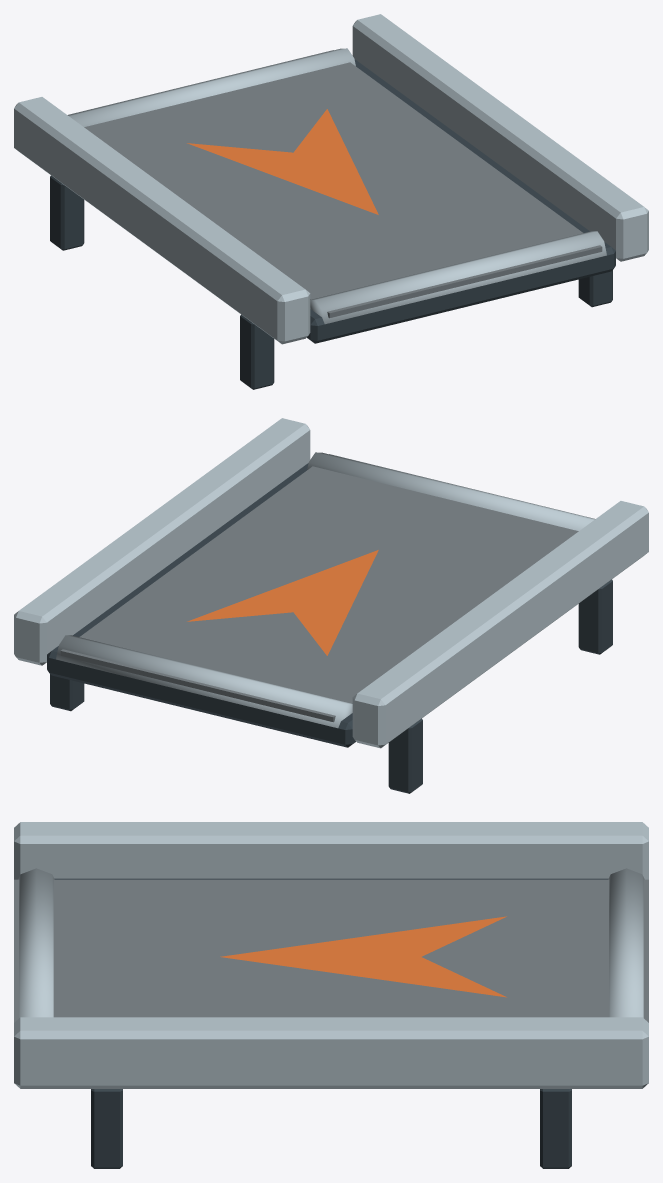
Rendered from conveyor.glb.
3 renders of one model, top to bottom at view 1: azimuth 30°, elevation 25°; view 2: azimuth 150°, elevation 25°; view 3: azimuth 270°, elevation 25°, orthographic. The views are drawn at different scales.
Parts seen in each view (by area): view 1: conveyor_floor, conveyor_metal, conveyor_dark, conveyor_orange; view 2: conveyor_floor, conveyor_metal, conveyor_dark, conveyor_orange; view 3: conveyor_metal, conveyor_floor, conveyor_orange, conveyor_dark.
Part boxes in pixels (<box>): conveyor_floor: <box>67,50,602,318</box>; conveyor_metal: <box>14,14,648,344</box>; conveyor_dark: <box>50,59,615,389</box>; conveyor_orange: <box>187,109,378,214</box>; conveyor_floor: <box>60,454,595,722</box>; conveyor_metal: <box>14,418,648,748</box>; conveyor_dark: <box>47,463,612,793</box>; conveyor_orange: <box>187,550,378,655</box>; conveyor_metal: <box>14,822,648,1088</box>; conveyor_floor: <box>14,879,648,1022</box>; conveyor_orange: <box>220,916,506,997</box>; conveyor_dark: <box>54,878,608,1168</box>.
Bounding box in the file's own units: 1.58 × 0.48 × 1.98.
